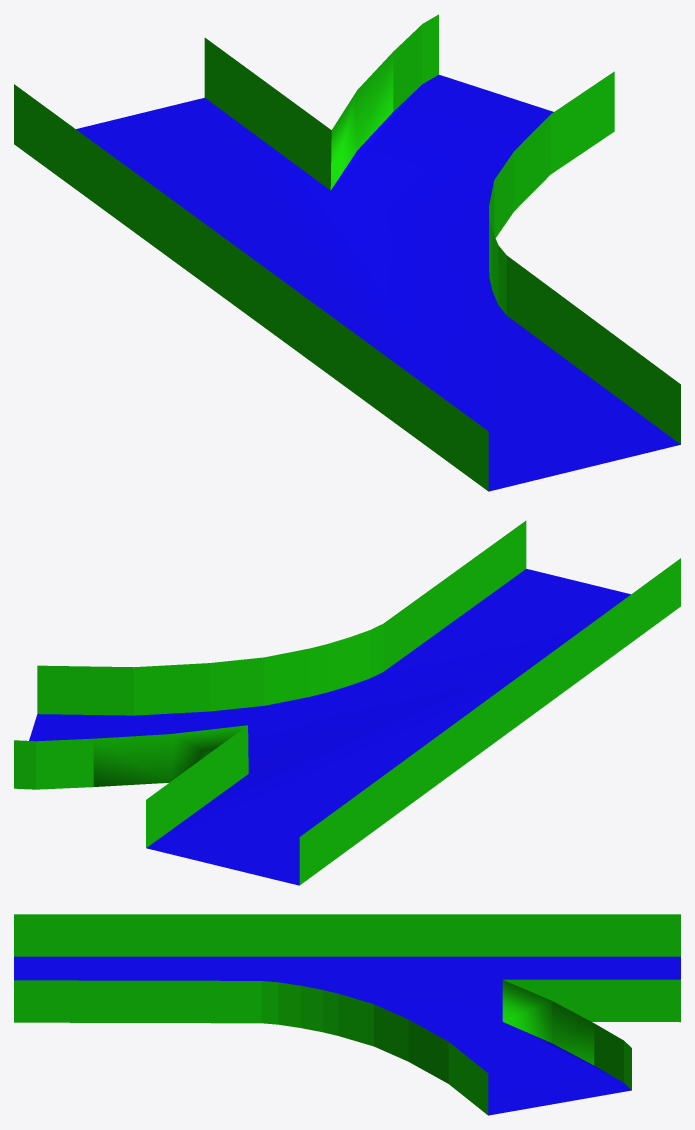
Rendered from inter2Reparer3.fbx.
3 views of the same model, one above another, from view 1: azimuth 30°, elevation 25°; view 2: azimuth 150°, elevation 25°; view 3: azimuth 270°, elevation 25° (orthographic). The views are drawn at different scales.
Parts seen in each view (by area): view 1: svgMesh1.002; view 2: svgMesh1.002; view 3: svgMesh1.002.
Part boxes in pixels (bbox=[...]): svgMesh1.002: bbox=[14, 14, 680, 491]; svgMesh1.002: bbox=[14, 520, 680, 885]; svgMesh1.002: bbox=[14, 914, 680, 1115].
Bounding box in the file's own units: 362 × 45.39 × 643.
